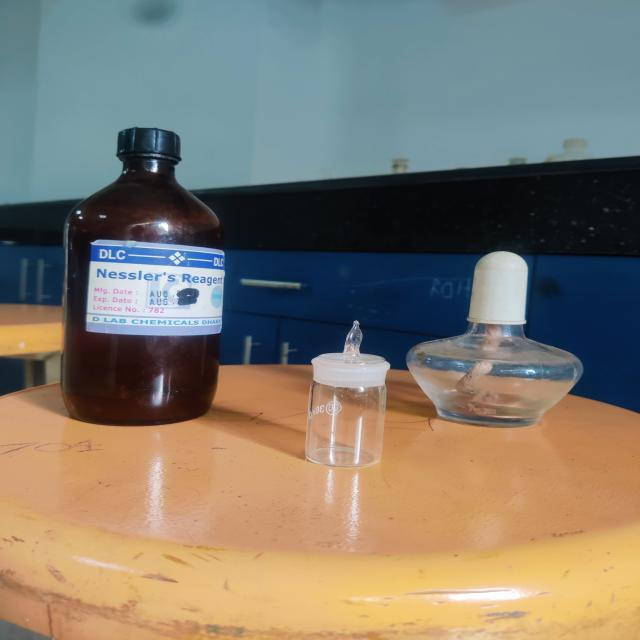Nessler_Reagent_Bottle: (9, 100, 241, 452)
Spirit_Lamp: (402, 207, 602, 446)
Weighing_Bottle: (288, 312, 405, 481)
